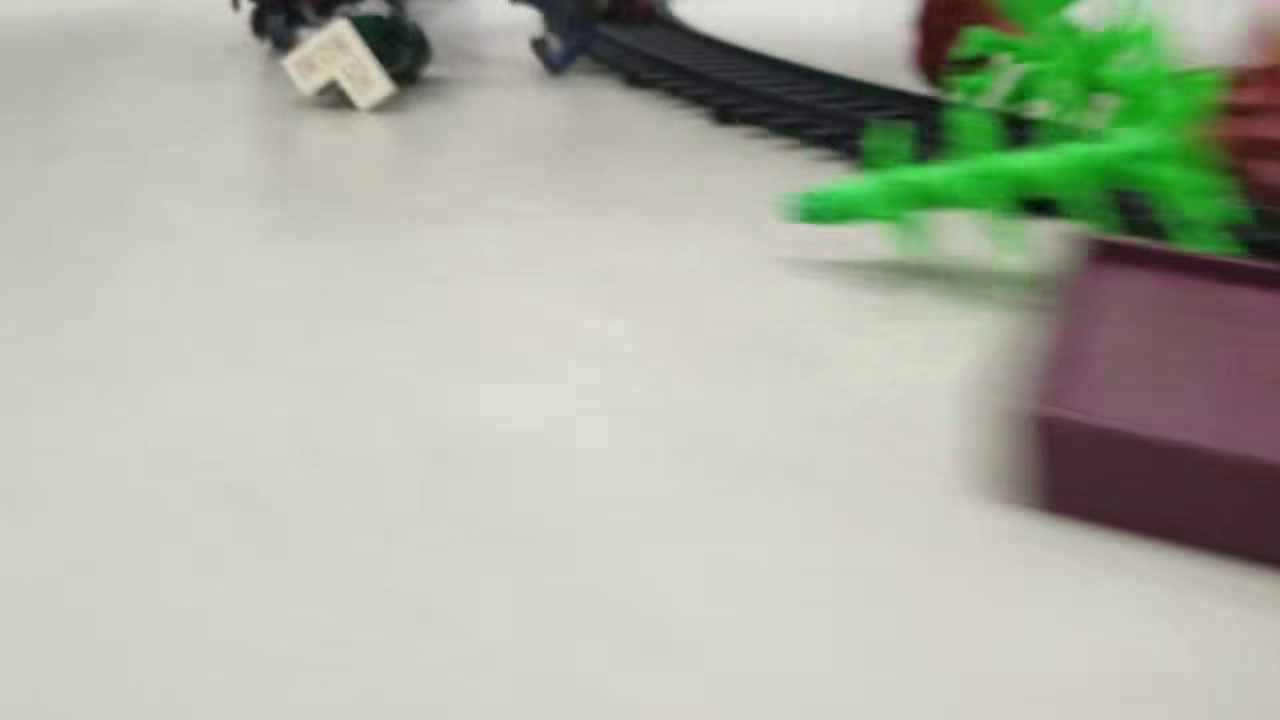tree: (780, 52, 1280, 262), (912, 1, 1215, 96)
